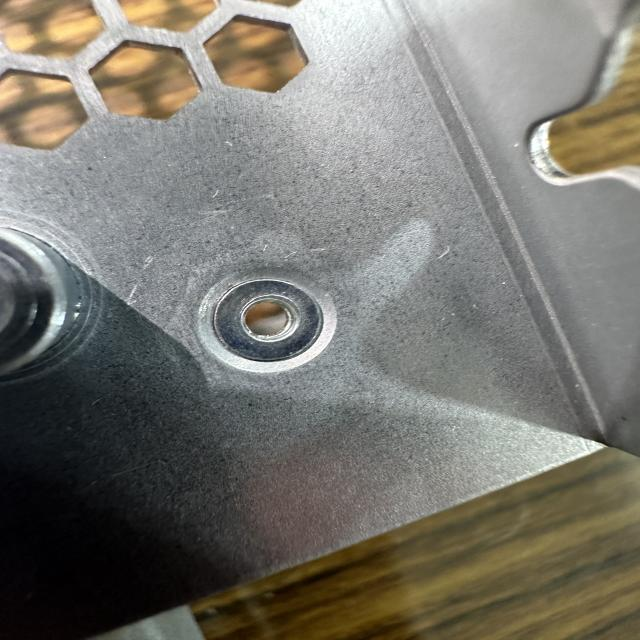Missing screw: (182, 259, 356, 386)
